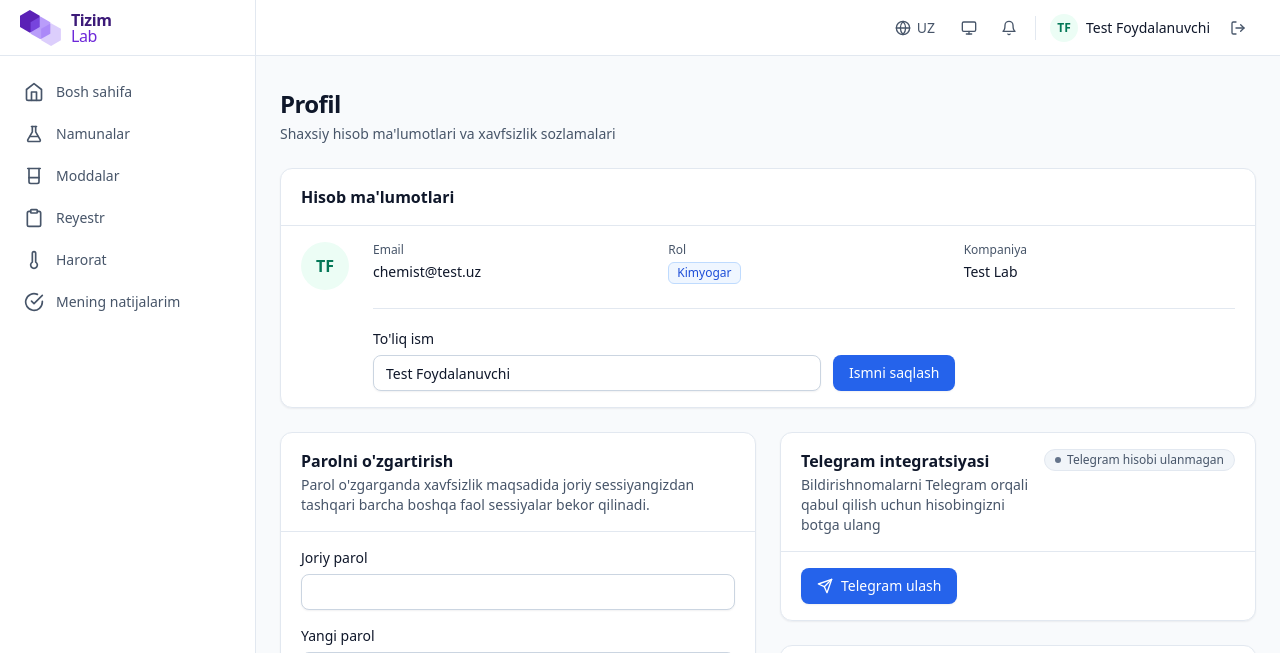
Test: ProfilePage › Telegram ulanmagan holat: 'Telegram hisobi ulanmagan' holati, 'Telegram ulash' tugmasi va token yaratish modali ochiladi
Expected: the text "Telegram hisobi ulanmagan" is shown, x1=1044 y1=449 x2=1235 y2=471
Click the button "Telegram ulash" at (879, 586), box x1=801 y1=568 x2=957 y2=604
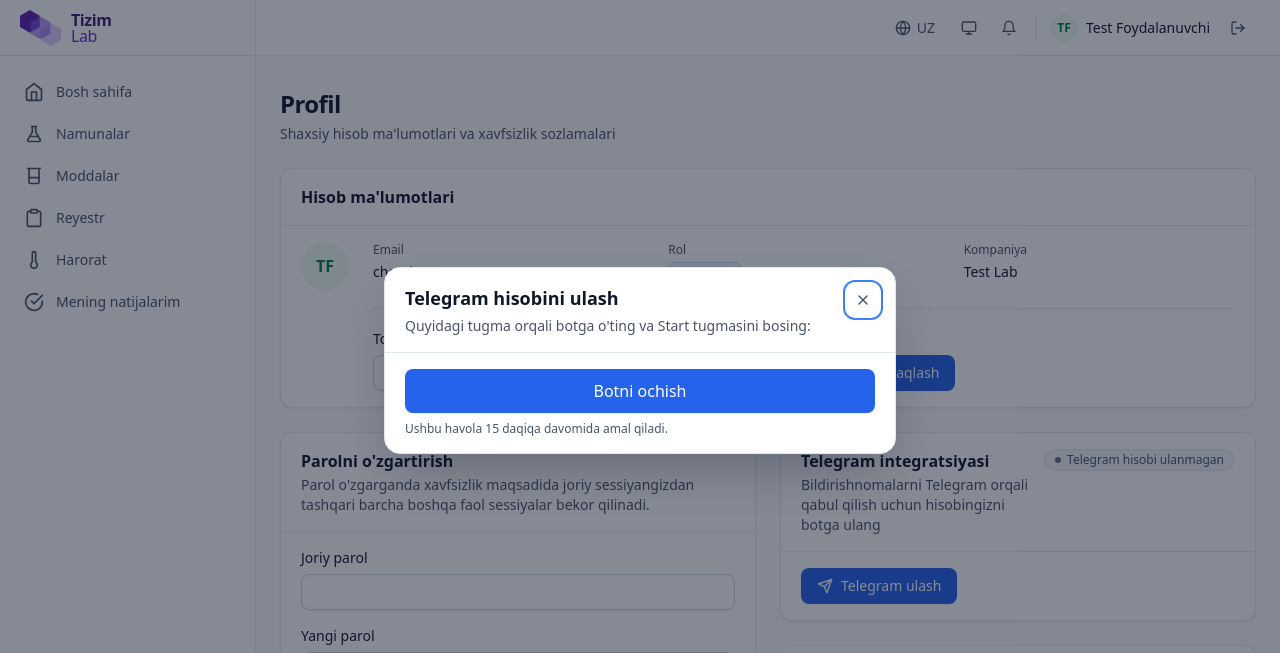
Expected: the heading "Telegram hisobini ulash" is shown, x1=405 y1=286 x2=619 y2=310
